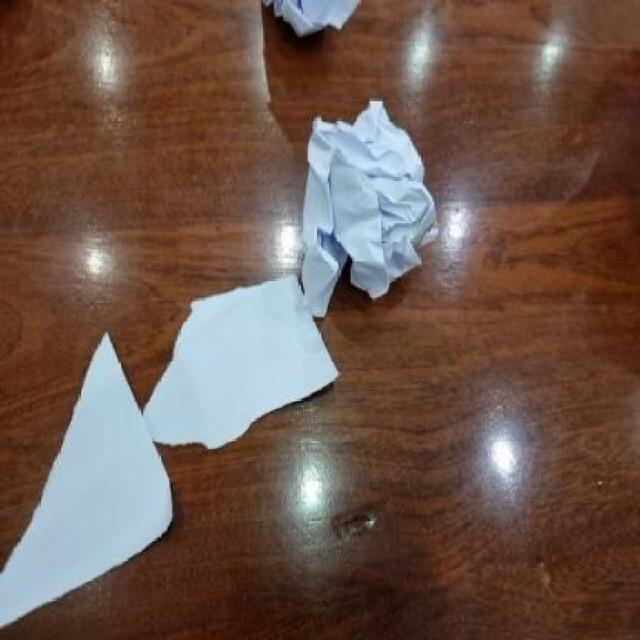trash: (0, 331, 172, 640), (137, 276, 338, 446), (303, 99, 439, 316), (261, 0, 369, 32)
